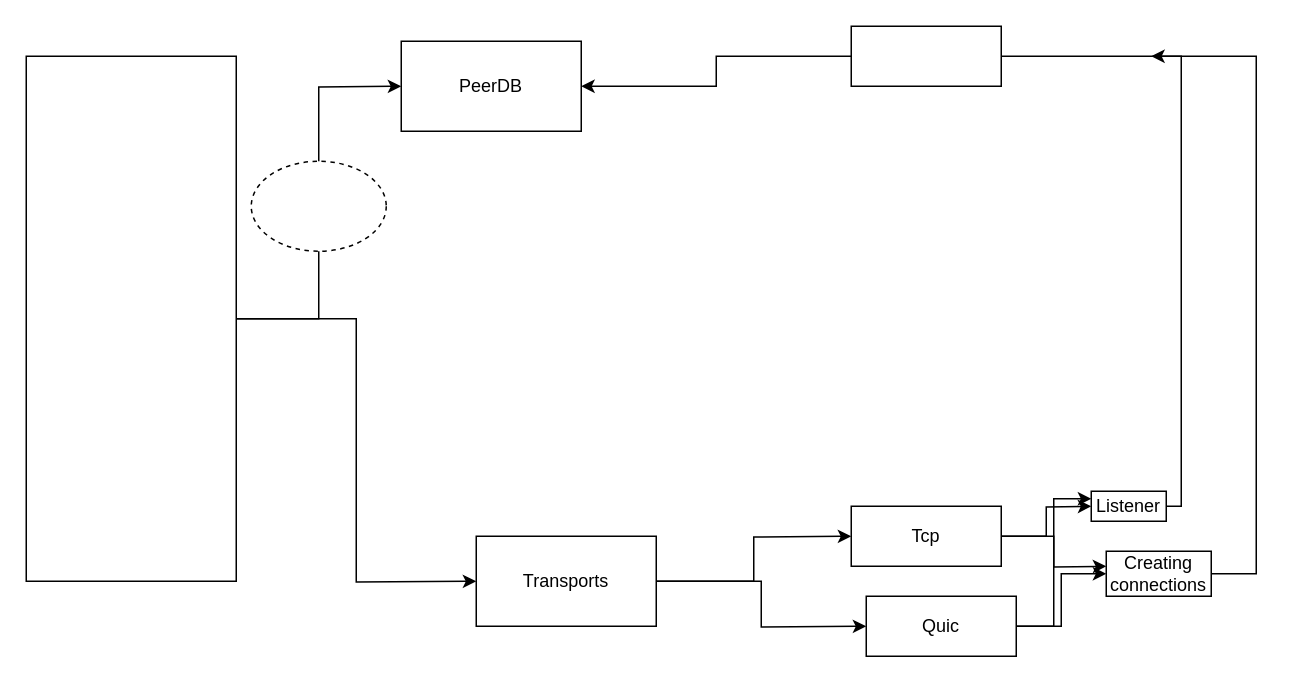
Some shapes in this 1295 by 683 pixel diagram are drawn without their labels. The shapes that lost their labels are listed below. From the top down, each one's centre as x and y in pixels, then its label:
At [925,55]: "Creating a peer".
At [318,205]: "Send/Listen".
At [130,318]: "Manager".
